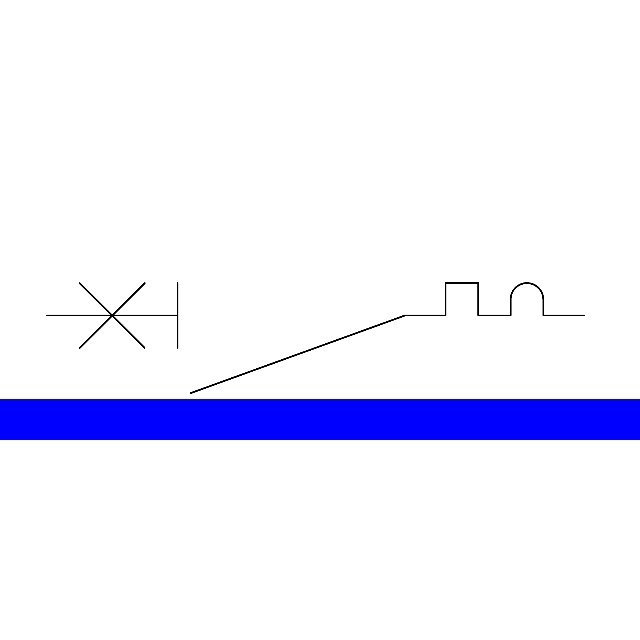interruptor_termomagnetico: (33, 269, 598, 407)
